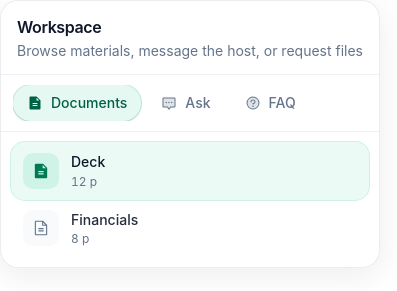
Scenario: VisitorWorkspacePanel › shows FAQ tab to the right of Ask when pins exist
This screenshot has width=397, height=291.
Click the button "FAQ" at (270,103), box x1=231 y1=85 x2=310 y2=121
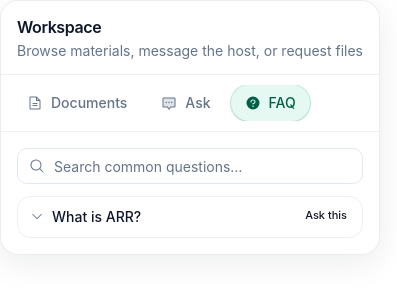
Expected: the field with placeholder "Search common questions…" is shown, x1=17 y1=148 x2=363 y2=184
Expected: the text "What is ARR?" is shown, x1=52 y1=208 x2=141 y2=225
